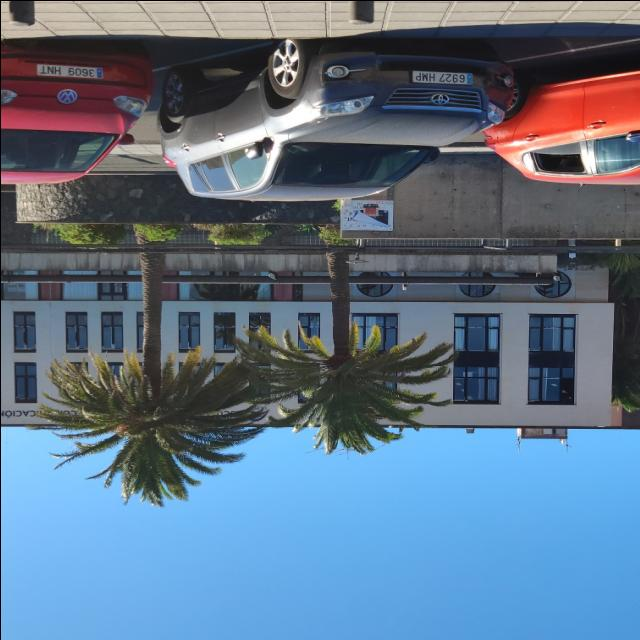Palm-Trees: (51, 253, 254, 507), (234, 247, 442, 454)
